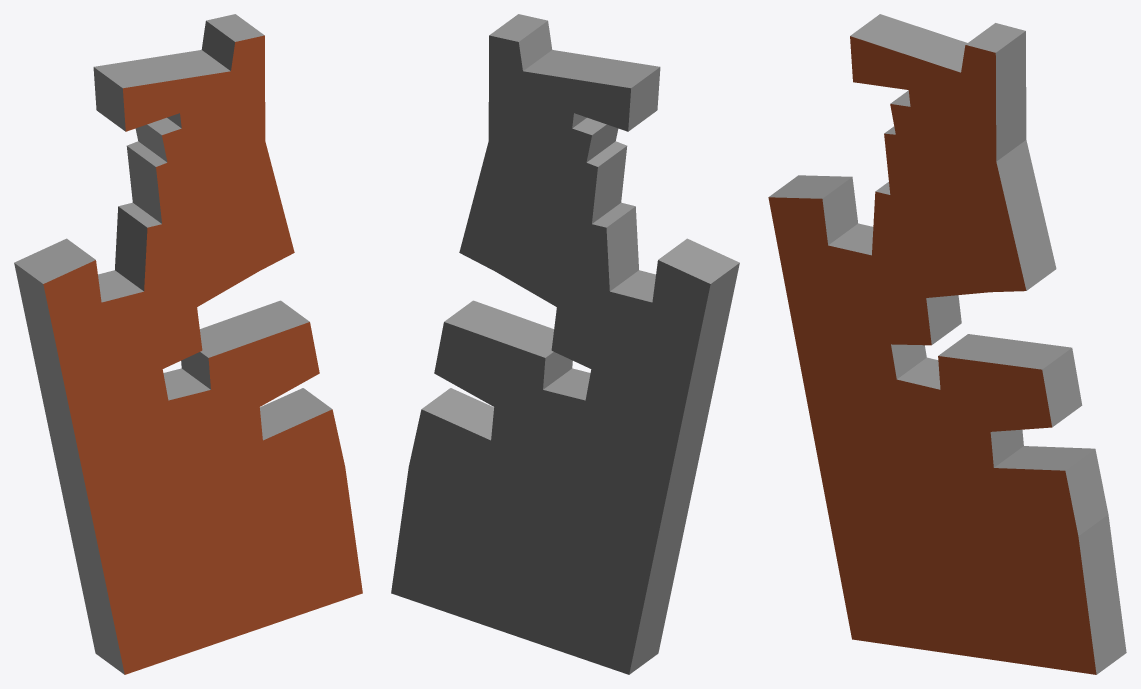
File: construction_6968_assumed_A_Casa_h6m.obj
3 views of the same model, side by side, from view 1: azimuth 30°, elevation 25°; view 2: azimuth 150°, elevation 25°; view 3: azimuth 330°, elevation 25° (orthographic). The views are drawn at different scales.
Visible parts, largest first — view 1: construction_6968_assumed_A_Casa; view 2: construction_6968_assumed_A_Casa; view 3: construction_6968_assumed_A_Casa.
Boxes of the visible parts, x1=… form: construction_6968_assumed_A_Casa: x1=14, y1=14, x2=362, y2=674; construction_6968_assumed_A_Casa: x1=391, y1=14, x2=739, y2=674; construction_6968_assumed_A_Casa: x1=768, y1=14, x2=1126, y2=674.
Size of the model in its own units: 37.8 by 68.49 by 6.
